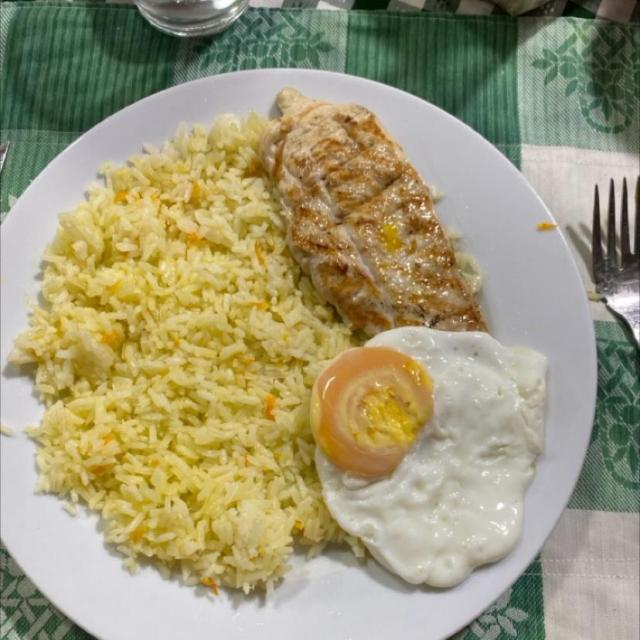chicken steak: (250, 89, 486, 343)
fried egg: (310, 327, 548, 587)
plate: (0, 69, 596, 639)
rice: (11, 117, 363, 592)
